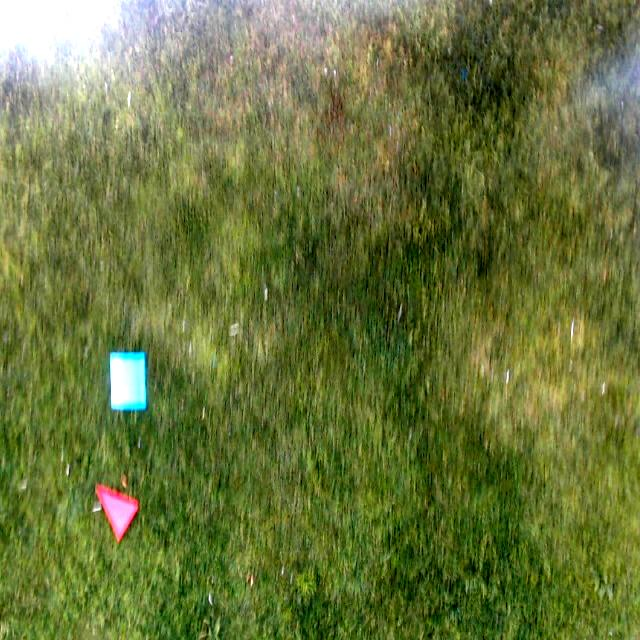blue_square: (109, 352, 147, 410)
red_triangle: (96, 486, 138, 542)
